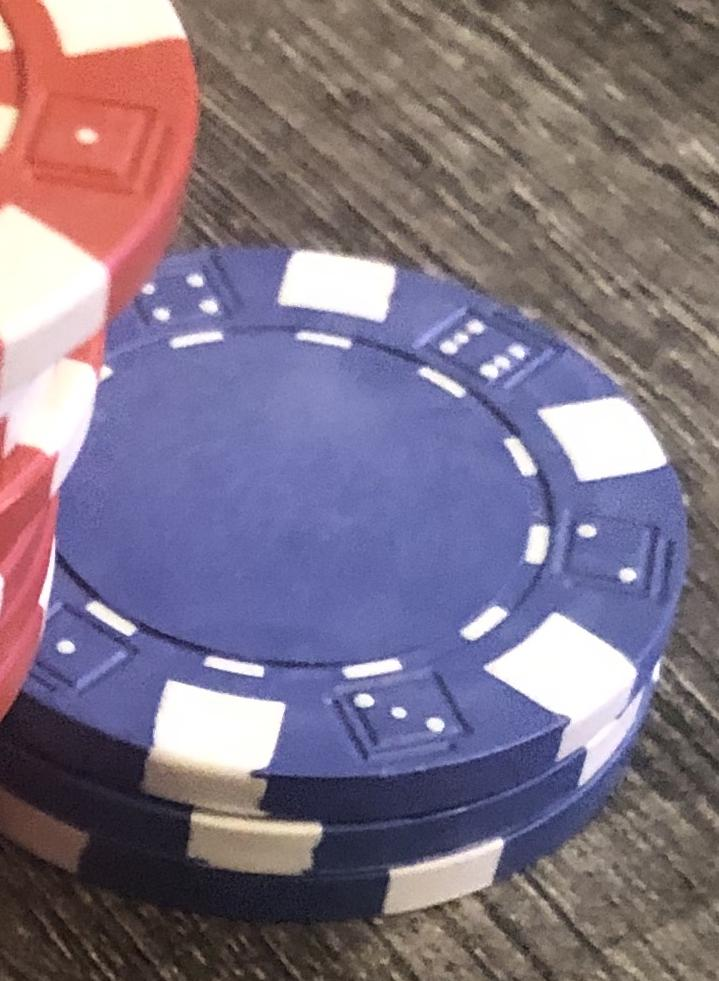Chip: (1, 1, 719, 981)
